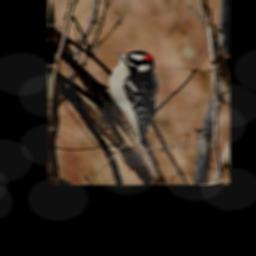Woodpecker: (103, 50, 159, 150)
